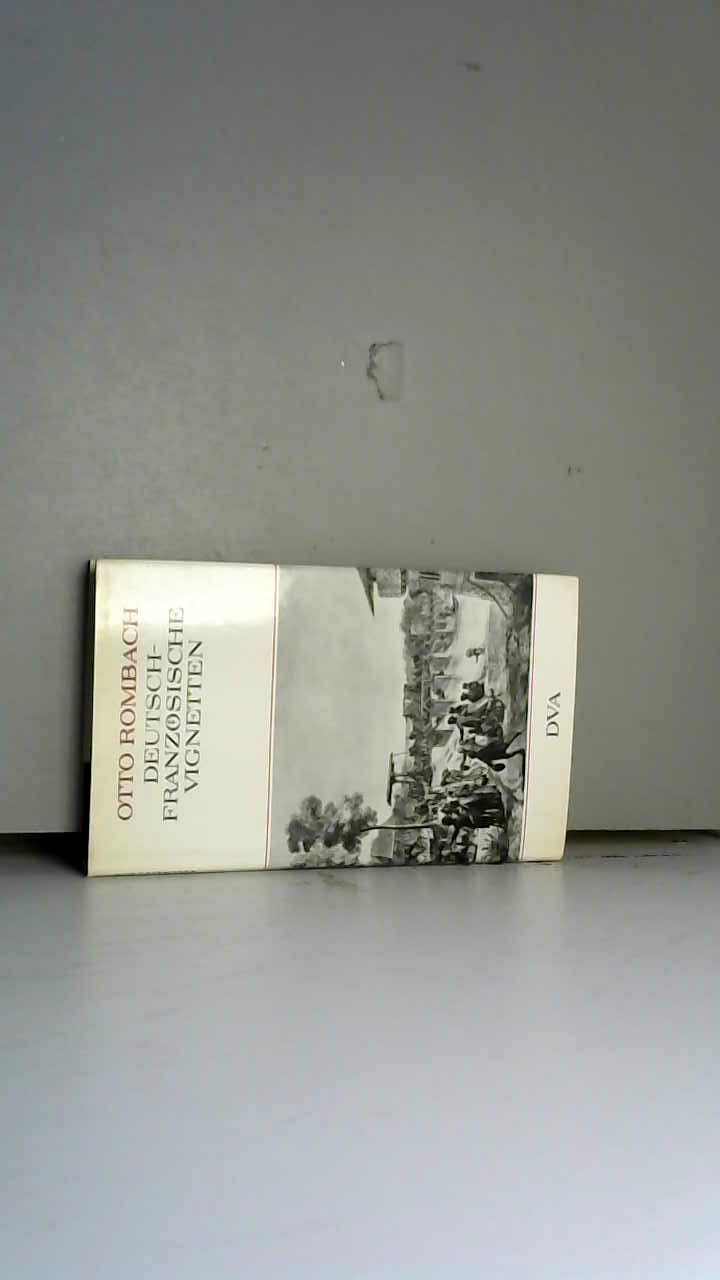book: (59, 535, 597, 903)
